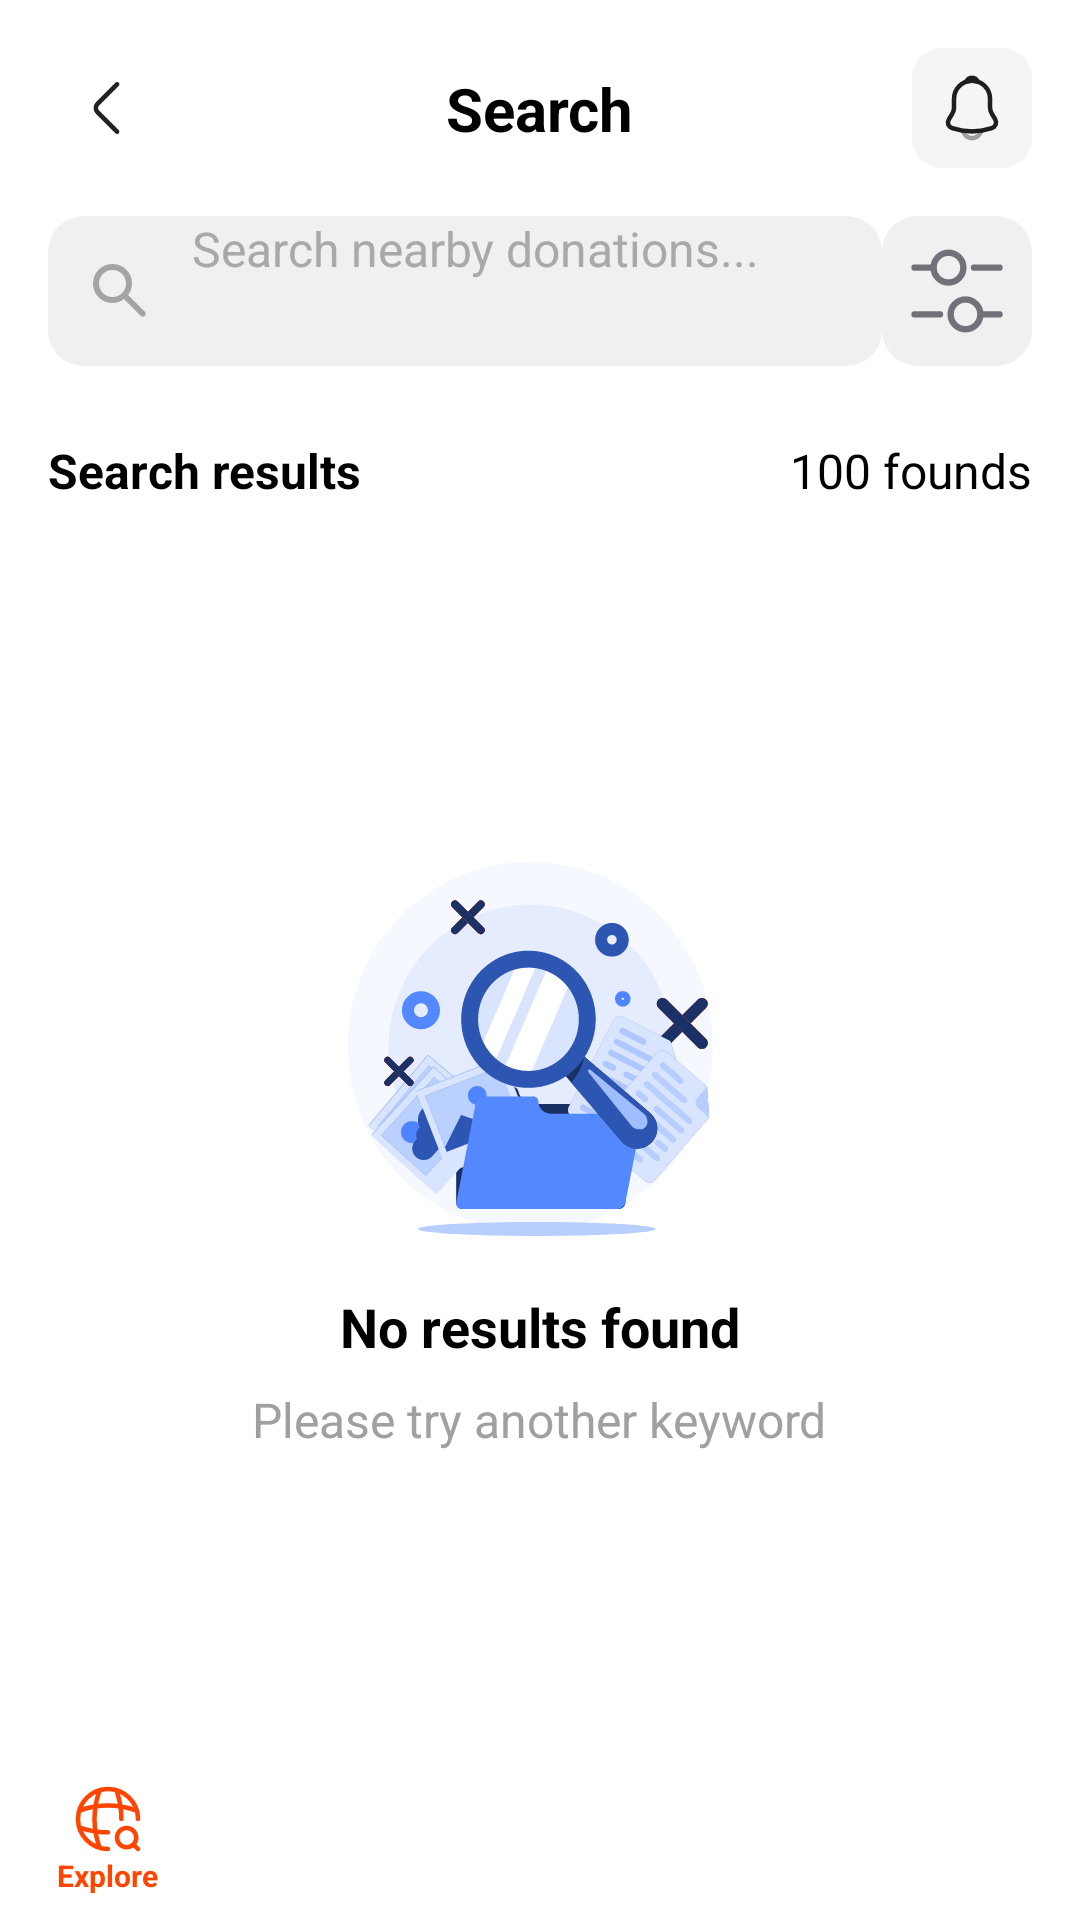

Locate icon controls on the screen. Image size 1080*1920, boxes as rect(x1, y1, x2, y2).
Filtre: rect(882, 216, 1032, 366)
global search: rect(75, 1786, 141, 1852)
Loupe: rect(93, 264, 146, 317)
Notifications: rect(912, 48, 1032, 168)
Retour: rect(93, 82, 120, 134)
